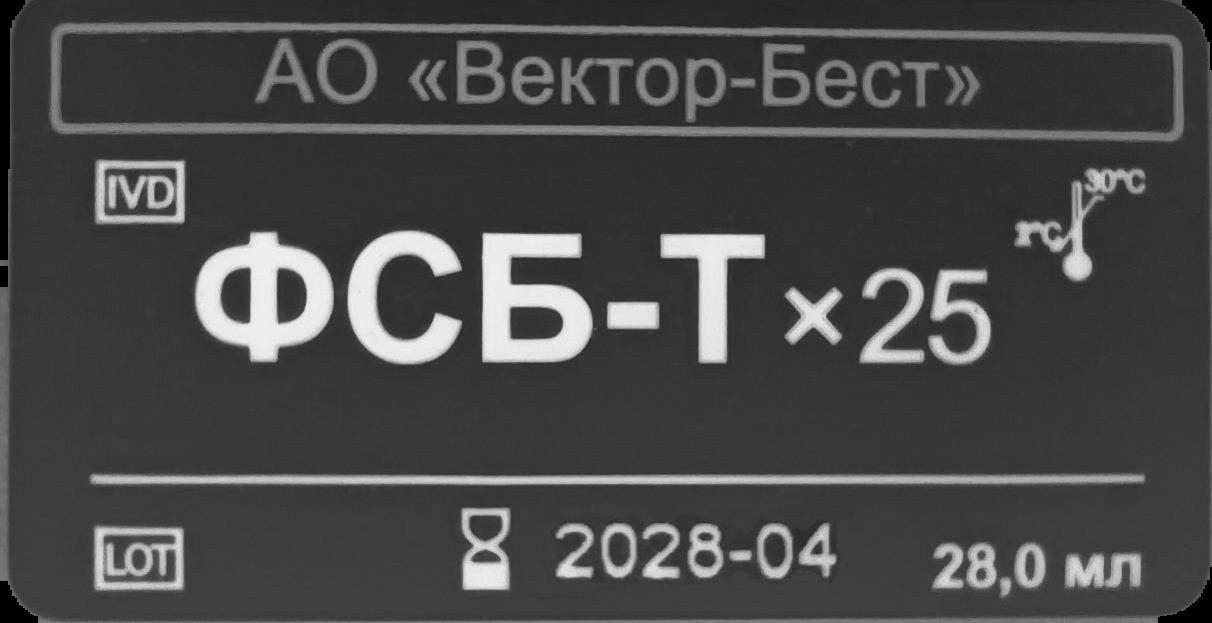something: (1011, 159, 1146, 283), (90, 155, 188, 229), (91, 524, 188, 595), (458, 504, 512, 599)
text: (184, 226, 996, 378), (246, 28, 991, 130), (555, 518, 845, 589), (928, 538, 1146, 603)
